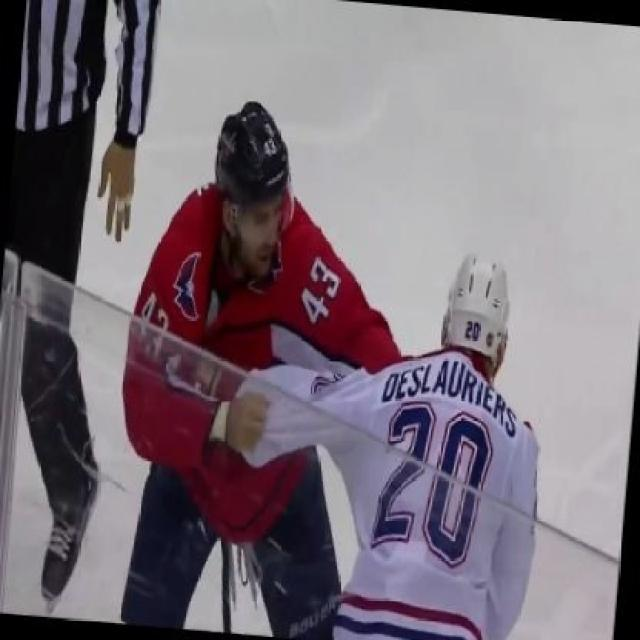fight: (120, 92, 551, 638)
